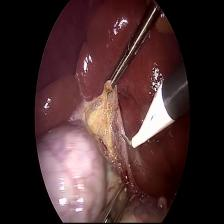Grasper: (102, 2, 161, 98), (93, 177, 137, 224)
Hook: (114, 81, 169, 160)
